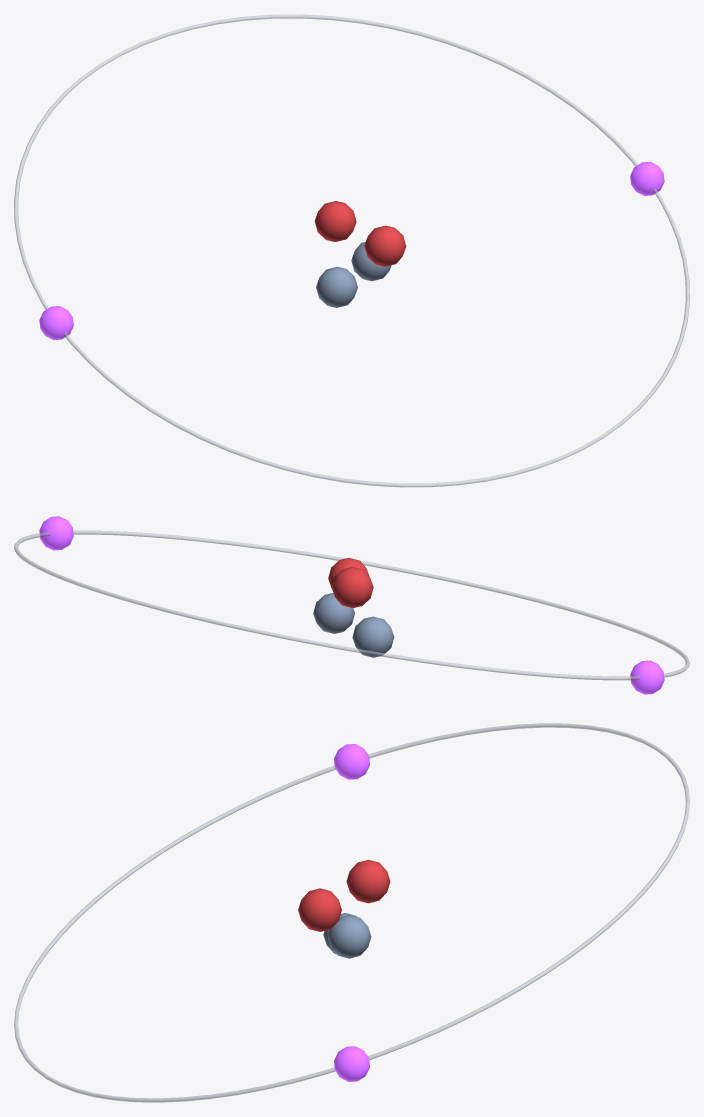
The picture shows the model from 3 angles, top to bottom: view 1: azimuth 30°, elevation 25°; view 2: azimuth 150°, elevation 25°; view 3: azimuth 270°, elevation 25°; orthographic projection. The views are drawn at different scales.
Visible parts, largest first — view 1: anel_1, protons, neutrons, eletrons_1; view 2: anel_1, neutrons, eletrons_1, protons; view 3: anel_1, protons, eletrons_1, neutrons.
Boxes of the visible parts, x1,y1,x2,y2 form: anel_1: (14, 14, 689, 487); protons: (314, 201, 406, 266); neutrons: (316, 242, 391, 307); eletrons_1: (39, 161, 664, 340); anel_1: (14, 530, 689, 680); neutrons: (313, 593, 394, 657); eletrons_1: (39, 516, 664, 694); protons: (328, 558, 373, 607); anel_1: (14, 723, 689, 1102); protons: (298, 859, 390, 931); eletrons_1: (334, 744, 369, 1081); neutrons: (323, 913, 371, 958).
Size of the model in its own units: 0.736 by 0.2443 by 0.6616.
